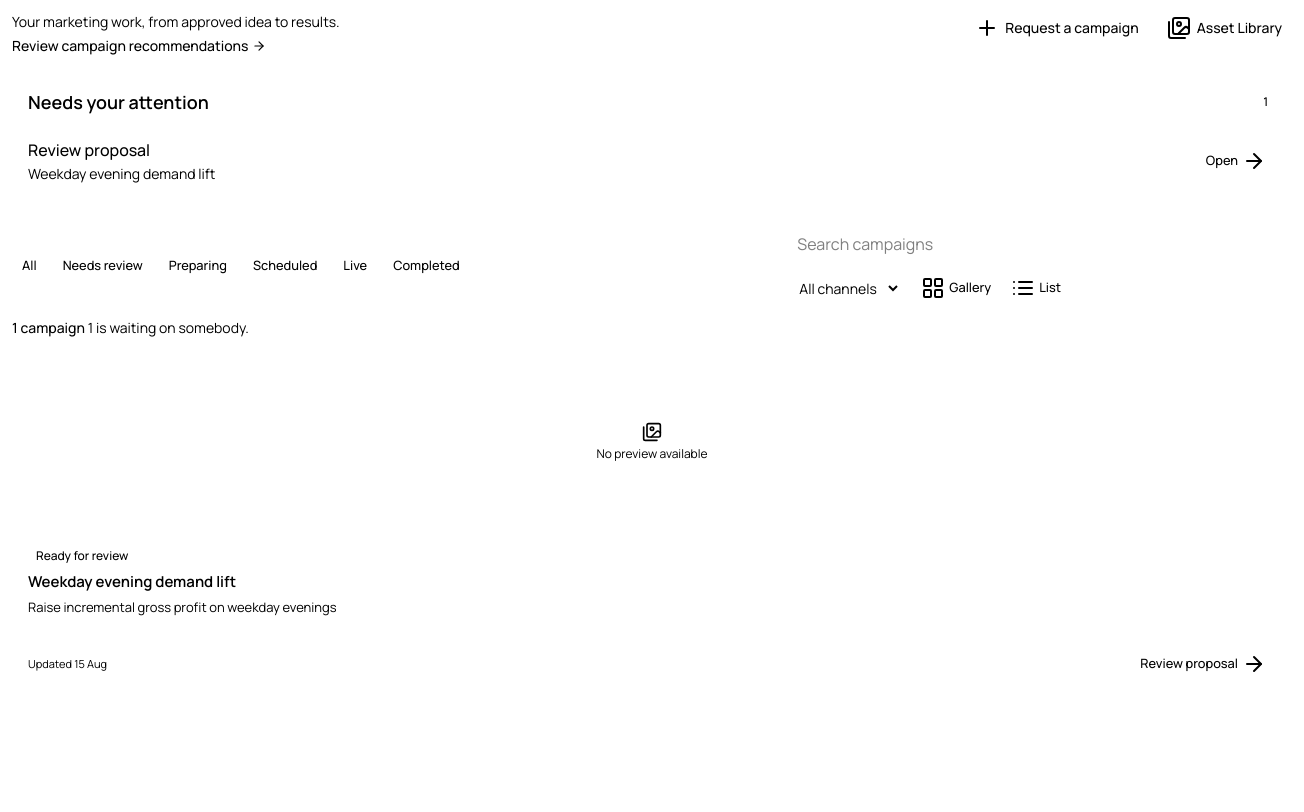
Test: the portfolio states only what the campaign has produced › shows channels and ceiling in the list view, where the columns are
Click the button "List". click: (1036, 288)
box: left=1001, top=274, right=1071, bottom=302
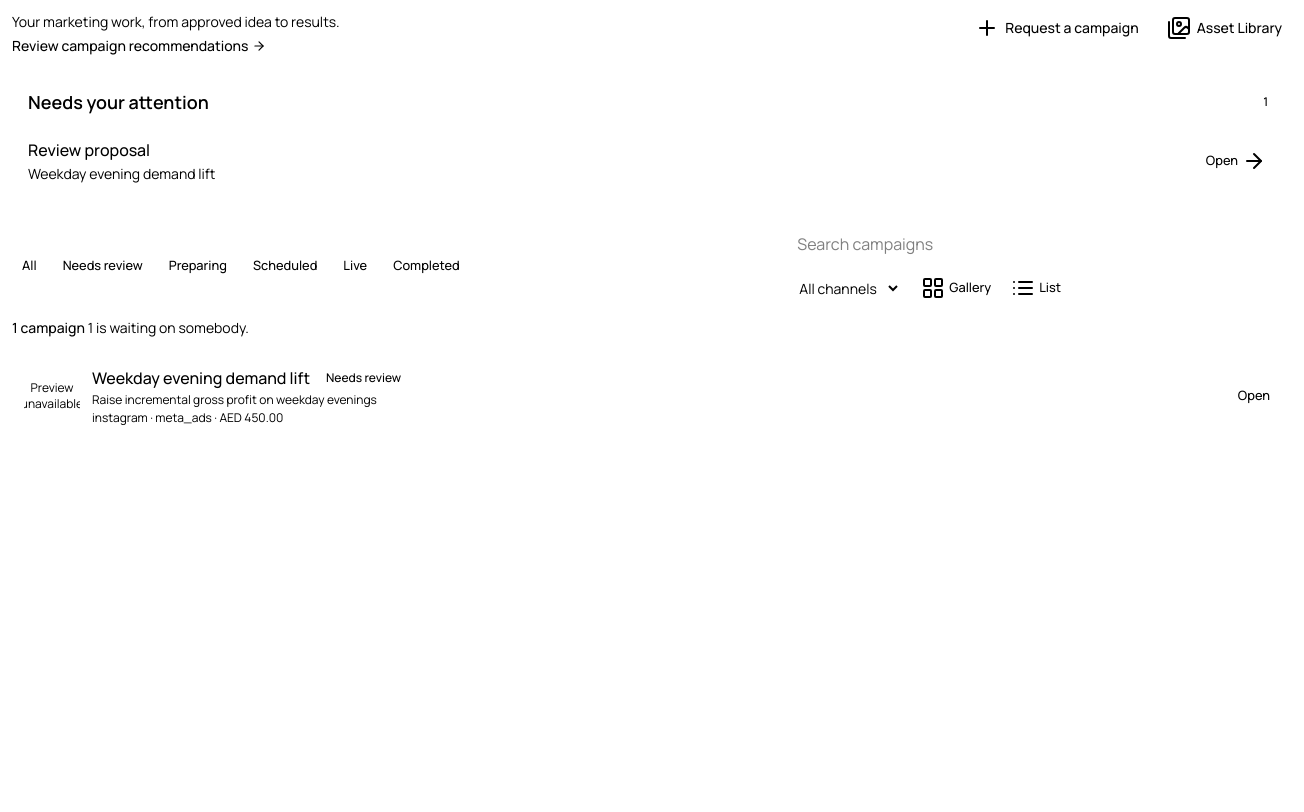
Expected: the text "instagram · meta_ads · AED 450.00" is shown, left=92, top=409, right=283, bottom=426
